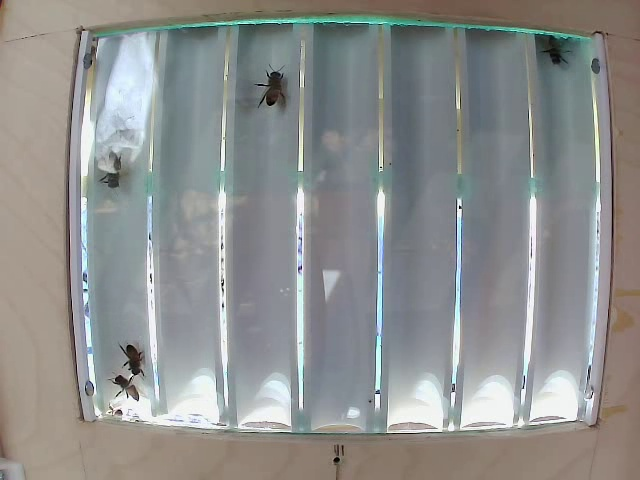bee: (540, 21, 577, 74), (257, 66, 293, 114), (110, 341, 150, 380)
